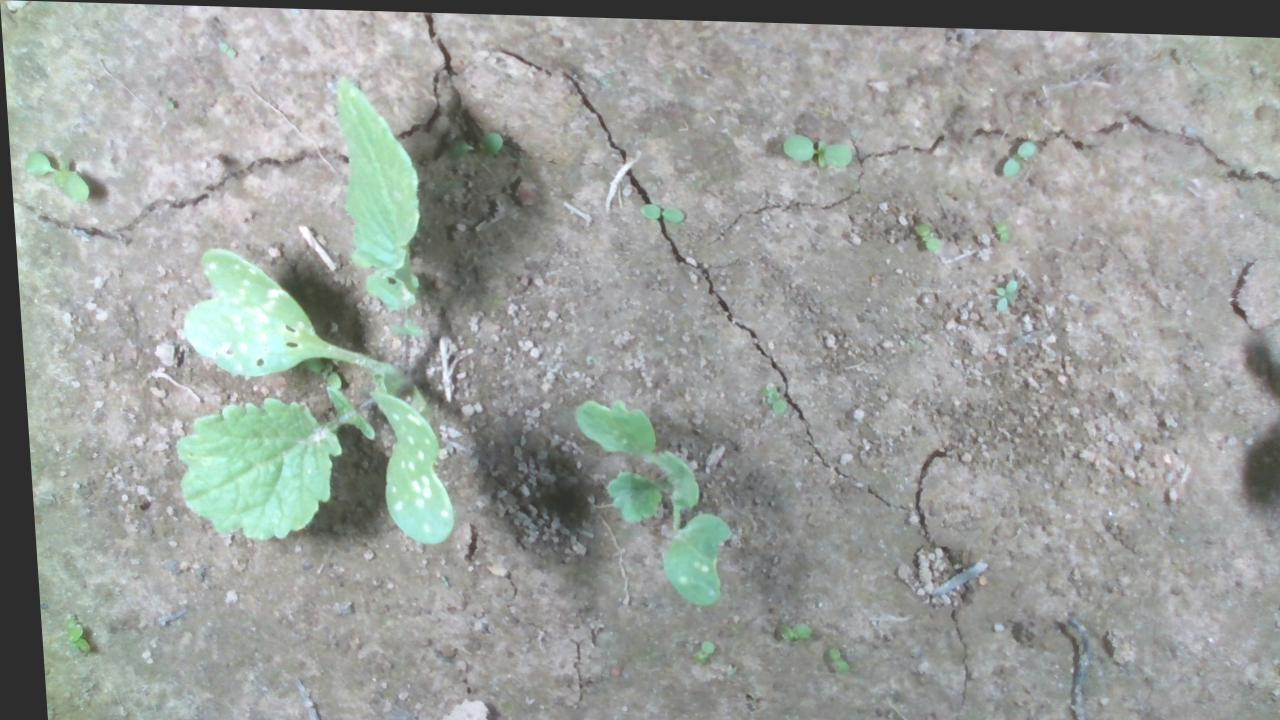weed: (778, 125, 852, 164), (441, 125, 503, 156), (994, 132, 1038, 172), (633, 196, 684, 219), (986, 271, 1018, 306), (908, 215, 940, 247), (762, 615, 804, 639), (815, 637, 840, 671), (754, 378, 782, 408), (681, 633, 708, 660), (215, 37, 237, 57)
